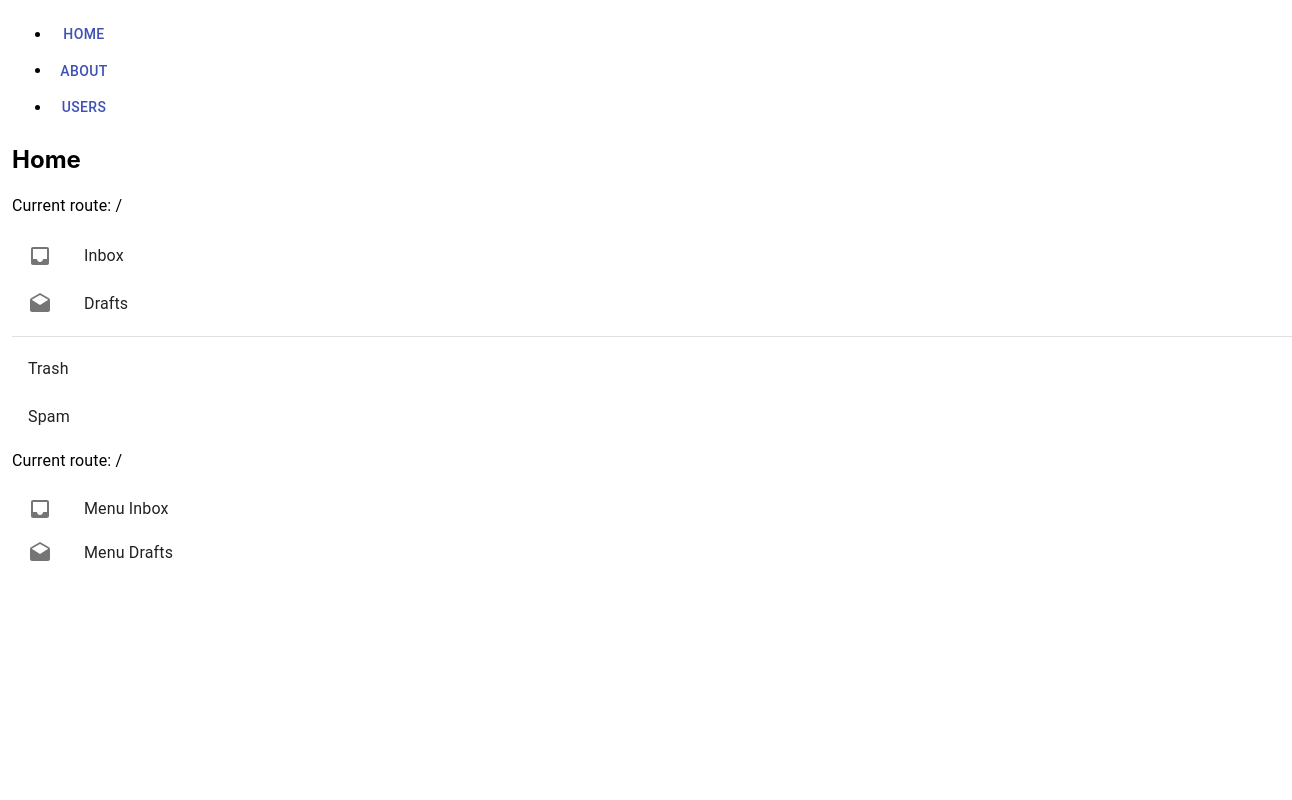
Test case: My First Test › navigates to trash
Click the button with test id "trash-link" at (49, 369), box [28,359,69,378]
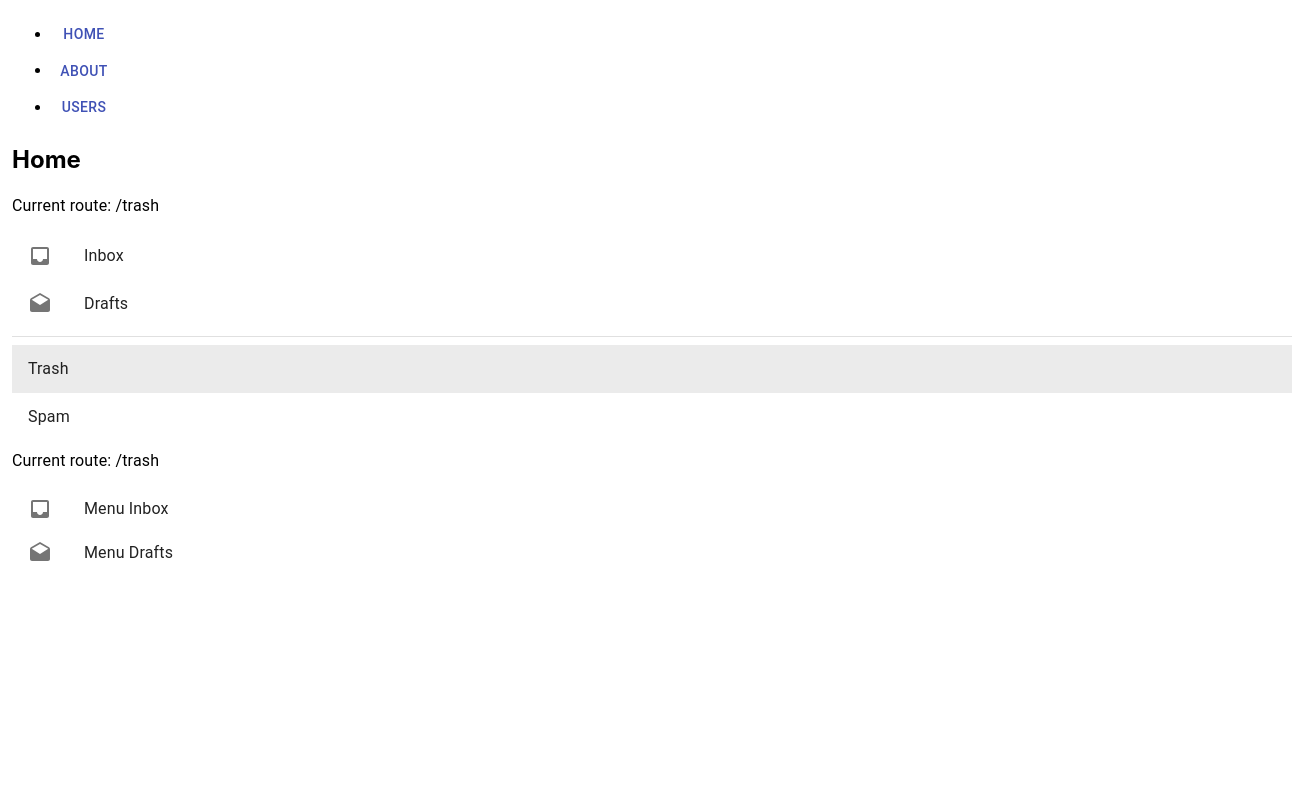
Check: the 1st text with test id "trash" shows "trash", box [115,196,159,215]
